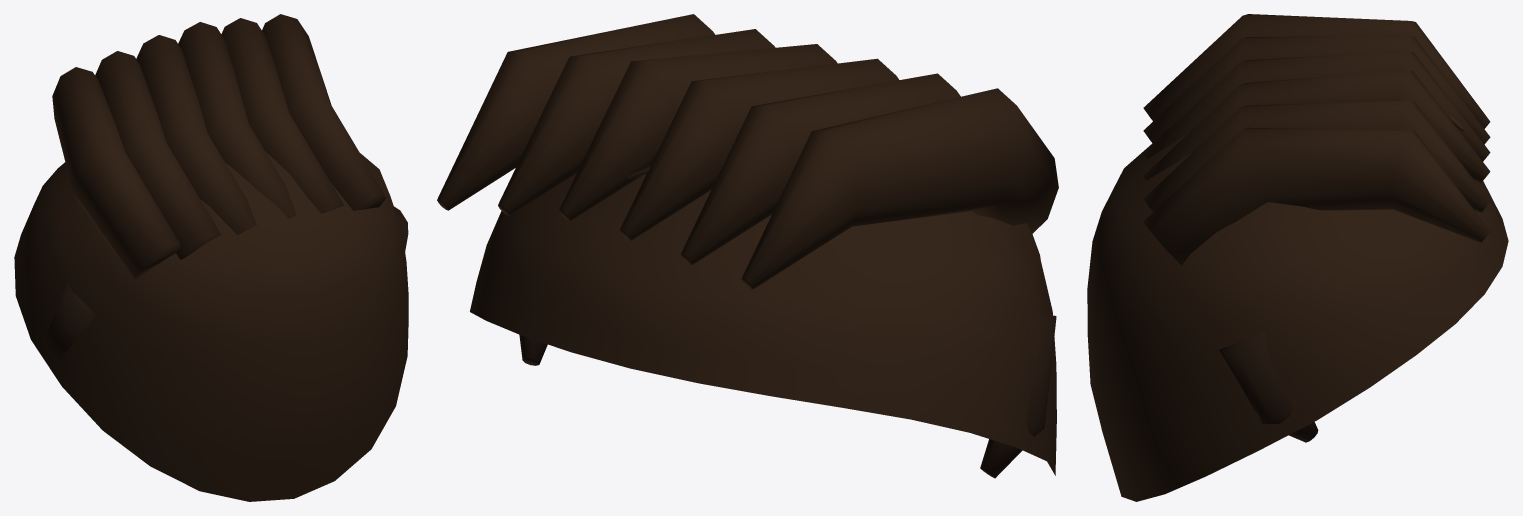
File: Hair1.glb
The picture shows the model from 3 angles, left to right: view 1: azimuth 30°, elevation 25°; view 2: azimuth 150°, elevation 25°; view 3: azimuth 270°, elevation 25°; orthographic projection. The views are drawn at different scales.
Visible parts, largest first — view 1: Hair1; view 2: Hair1; view 3: Hair1.
Part boxes in pixels (x1,y1,x2,y2): Hair1: [14, 14, 408, 501]; Hair1: [437, 14, 1058, 478]; Hair1: [1087, 14, 1508, 501].
Bounding box in the file's own units: 0.2403 × 0.2458 × 0.2194.
